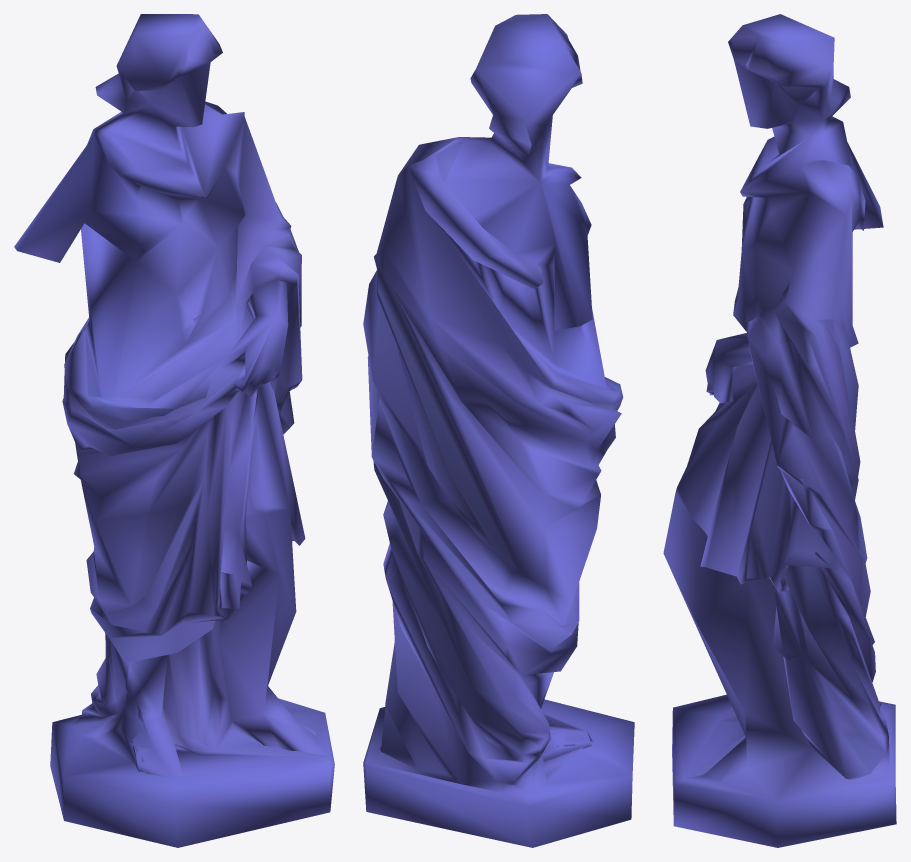
The model's file is model.progressive.glb.
3 renders of one model, left to right at view 1: azimuth 30°, elevation 25°; view 2: azimuth 150°, elevation 25°; view 3: azimuth 270°, elevation 25°, orthographic. The views are drawn at different scales.
Parts seen in each view (by area): view 1: material; view 2: material; view 3: material.
Part boxes in pixels (x1,y1,x2,y2): material: (14,14,334,847); material: (363,14,634,847); material: (663,14,896,847).
Bounding box in the file's own units: 0.664 × 1.88 × 0.5292.
1 material, 1 textured.
